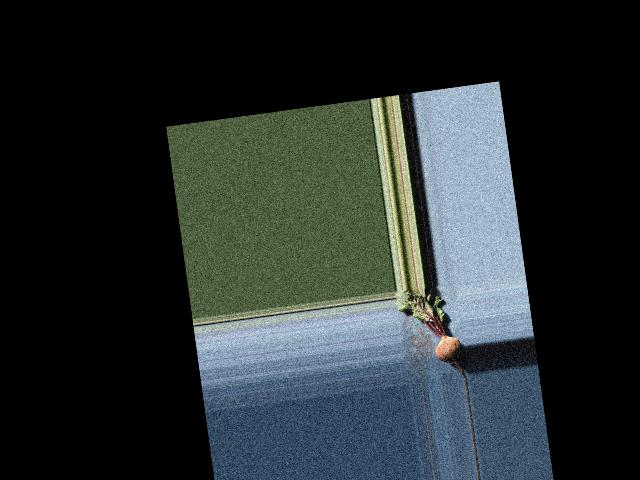beet: (394, 282, 466, 385)
